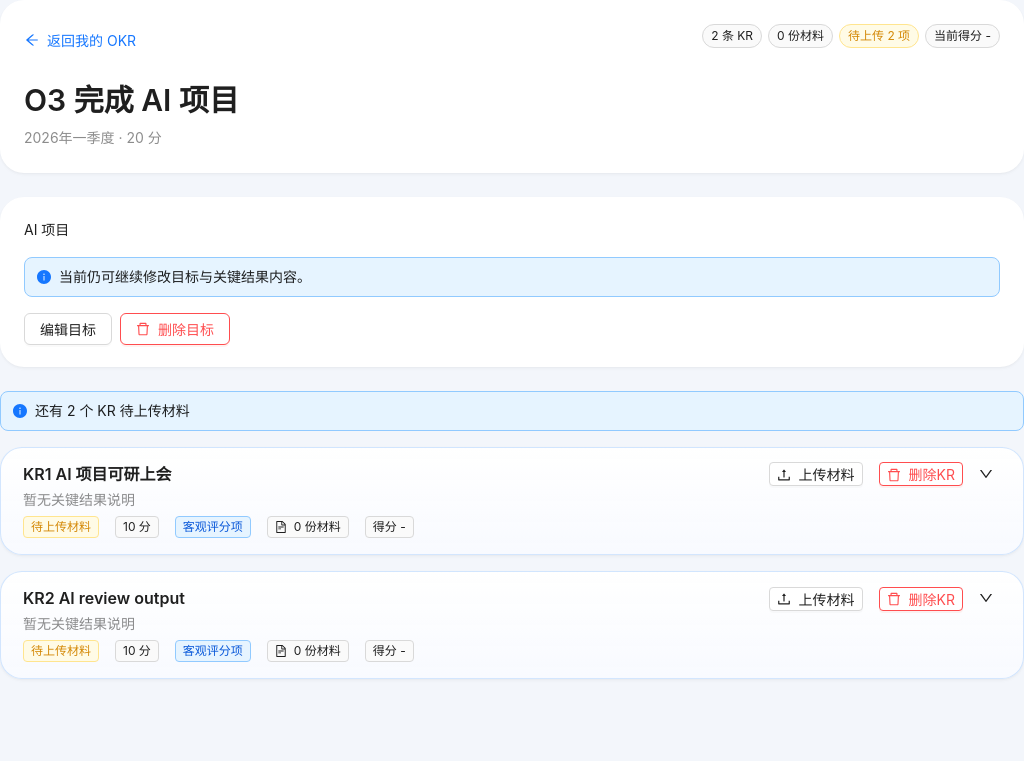
it: EmployeeGoalPage › opens the upload area directly from the summary upload button
This screenshot has width=1024, height=761.
Click the button "KR1 AI 项目可研上会 暂无关键结果说明 待上传材料 10 分 客观评分项 0 份材料 得分 -": {"x": 114, "y": 474} [23,462,763,538]
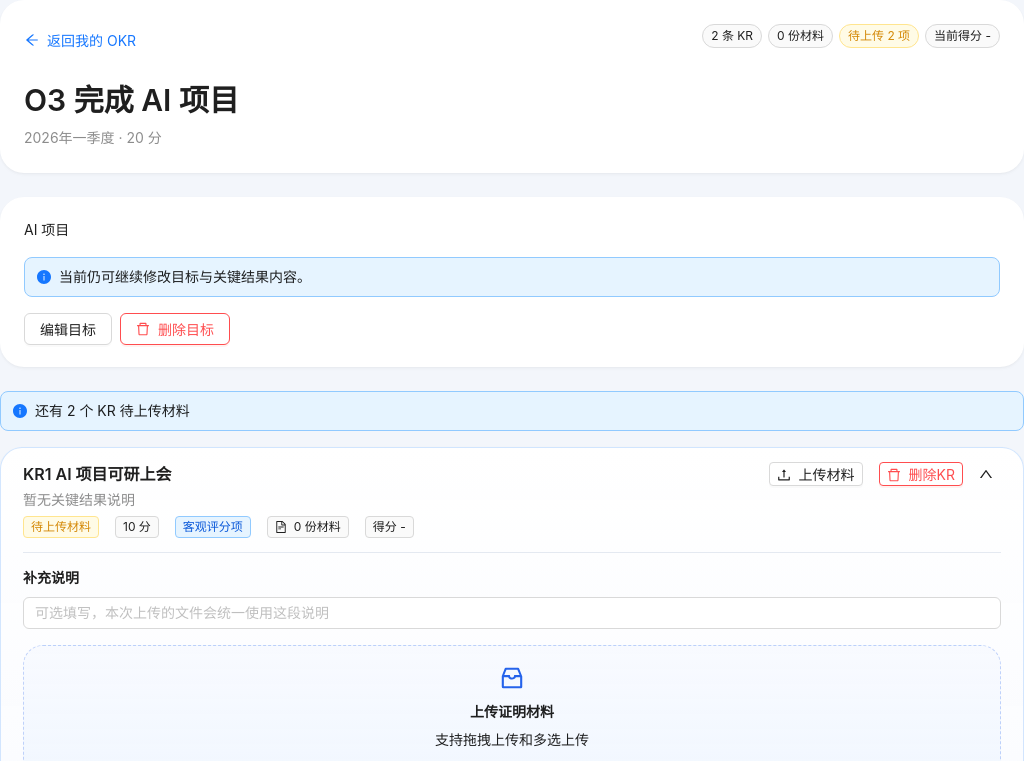
Expected: the element showing "上传材料 删除KR" is shown, [769,462,1001,487]
Result: the field with placeholder "可选填写，本次上传的文件会统一使用这段说明" is shown at [23,597,1001,629]
